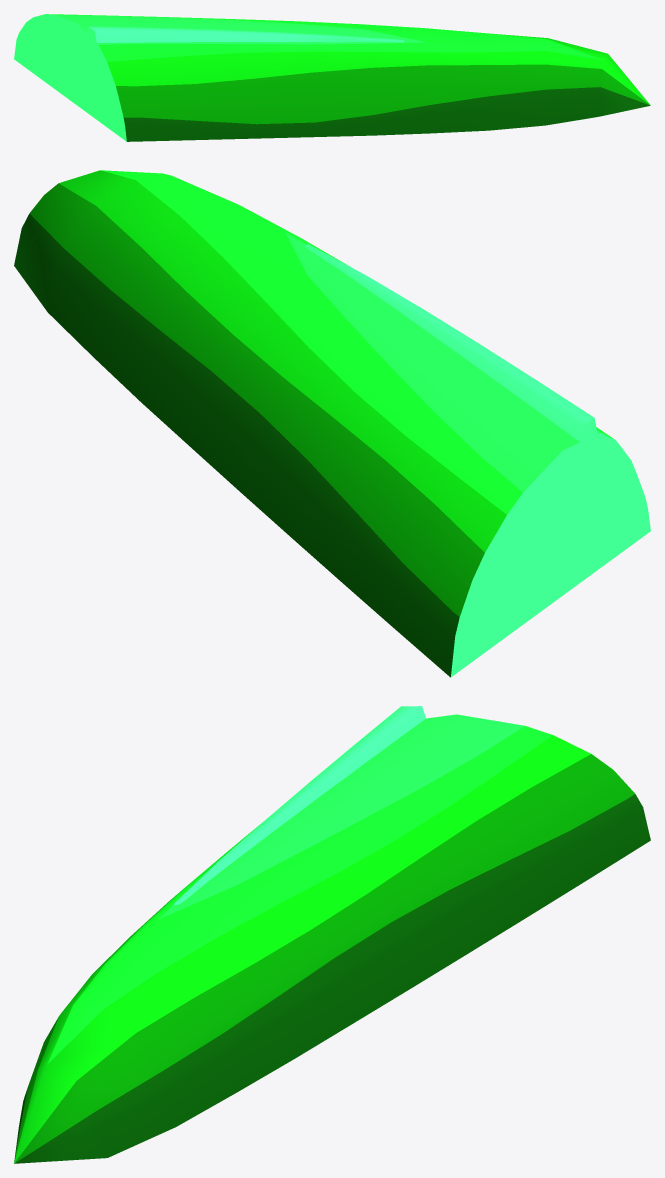
File: shot_sonic_b251.glb
3 views of the same model, one above another, from view 1: azimuth 30°, elevation 25°; view 2: azimuth 150°, elevation 25°; view 3: azimuth 270°, elevation 25° (orthographic). The views are drawn at different scales.
Visible parts, largest first — view 1: sonic_chevron_wave_b251, sonic_chevron_core_b251; view 2: sonic_chevron_wave_b251, sonic_chevron_core_b251; view 3: sonic_chevron_wave_b251, sonic_chevron_core_b251.
Boxes of the visible parts, box(x1,y1,x2,y2) form: sonic_chevron_wave_b251: box(14, 14, 650, 141); sonic_chevron_core_b251: box(80, 26, 404, 123); sonic_chevron_wave_b251: box(14, 170, 650, 677); sonic_chevron_core_b251: box(304, 244, 607, 590); sonic_chevron_wave_b251: box(14, 714, 650, 1163); sonic_chevron_core_b251: box(174, 706, 425, 905).
Size of the model in its own units: 7.8 by 1.51 by 6.49.
